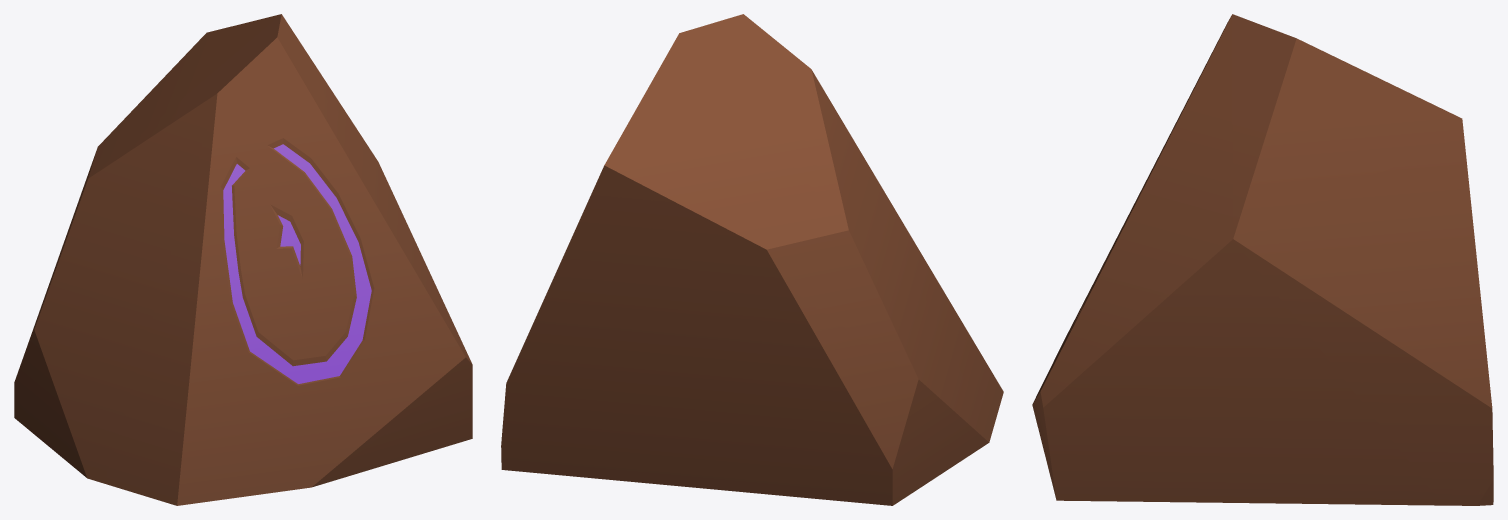
File: inscriptedrock02.fbx
The picture shows the model from 3 angles, left to right: view 1: azimuth 30°, elevation 25°; view 2: azimuth 150°, elevation 25°; view 3: azimuth 270°, elevation 25°; orthographic projection. The views are drawn at different scales.
Visible parts, largest first — view 1: InscriptedRock02; view 2: InscriptedRock02; view 3: InscriptedRock02.
Part boxes in pixels (bbox=[...]): InscriptedRock02: bbox=[14, 14, 472, 505]; InscriptedRock02: bbox=[501, 14, 1003, 505]; InscriptedRock02: bbox=[1032, 14, 1493, 505].
Size of the model in its own units: 184 by 202 by 198.
